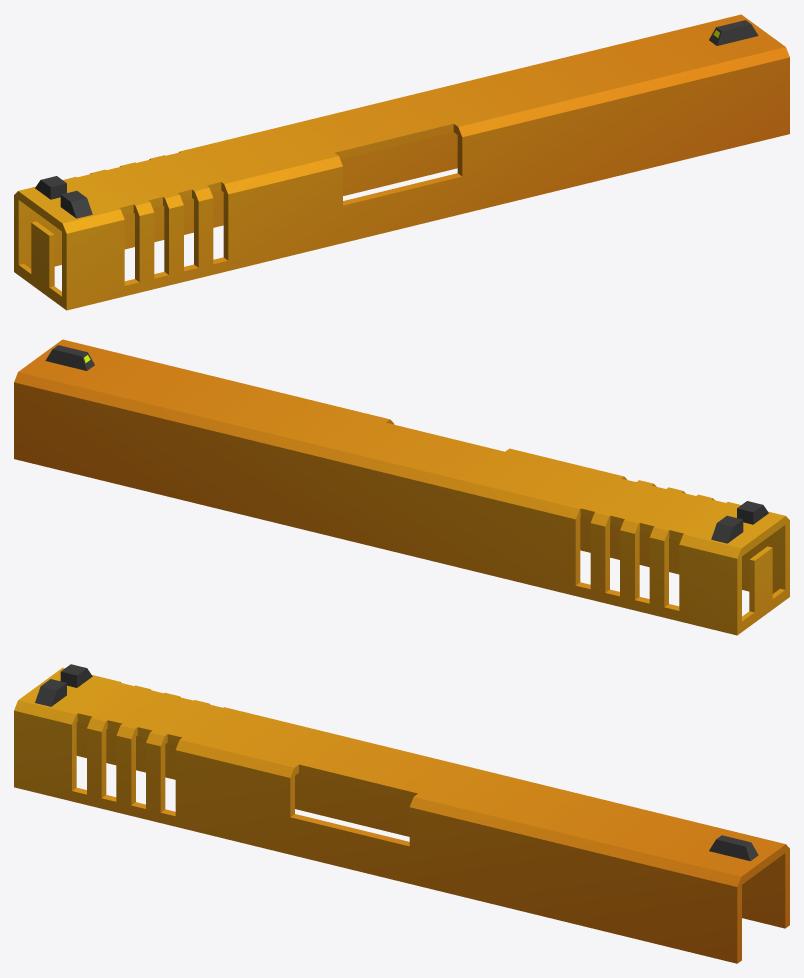
The model's file is Pistol4_05_2.fbx.
The picture shows the model from 3 angles, top to bottom: view 1: azimuth 30°, elevation 25°; view 2: azimuth 150°, elevation 25°; view 3: azimuth 330°, elevation 25°; orthographic projection.
Parts seen in each view (by area): view 1: Pistol4_05_2; view 2: Pistol4_05_2; view 3: Pistol4_05_2.
Boxes of the visible parts, bbox=[...] form: Pistol4_05_2: bbox=[14, 14, 789, 310]; Pistol4_05_2: bbox=[14, 339, 789, 635]; Pistol4_05_2: bbox=[14, 664, 789, 963].
Size of the model in its own units: 0.224 by 0.0286 by 0.0283.
